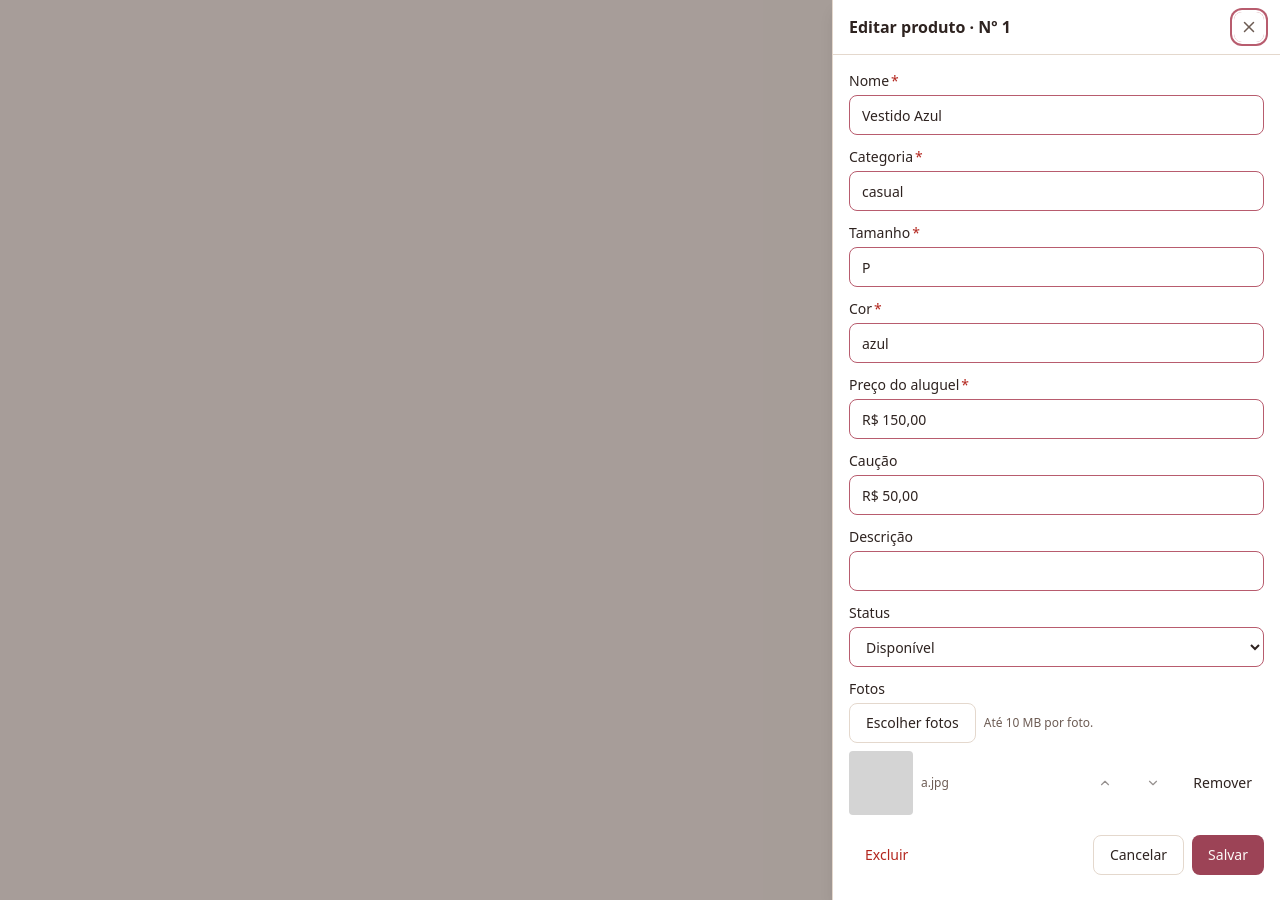
ProductDrawer › prompts when a photo was removed
This screenshot has width=1280, height=900.
Click the button "Remover": coordinates (1223, 783) [1181,767,1264,799]
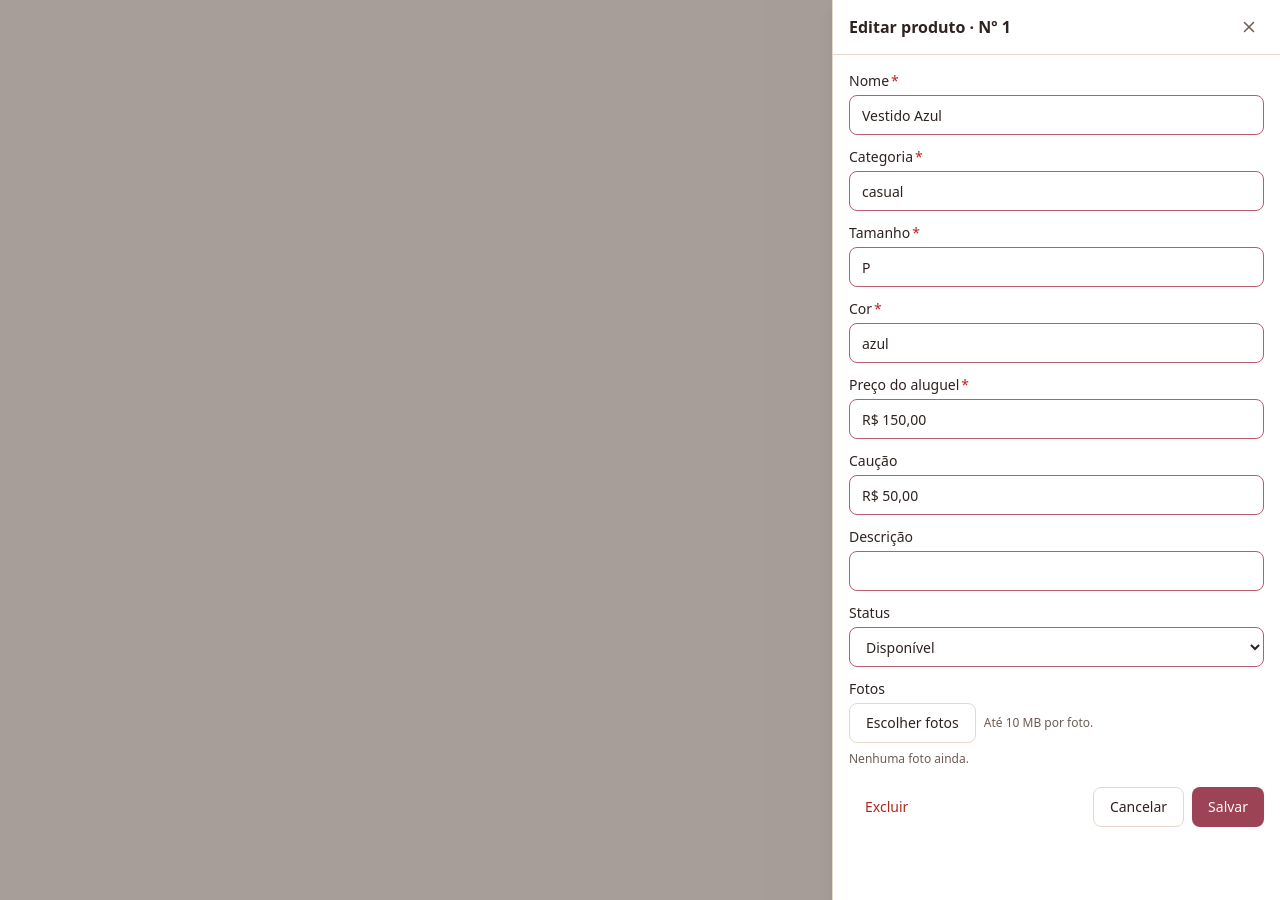
Click the button "Cancelar": coordinates (1138, 807) [1093,787,1184,827]
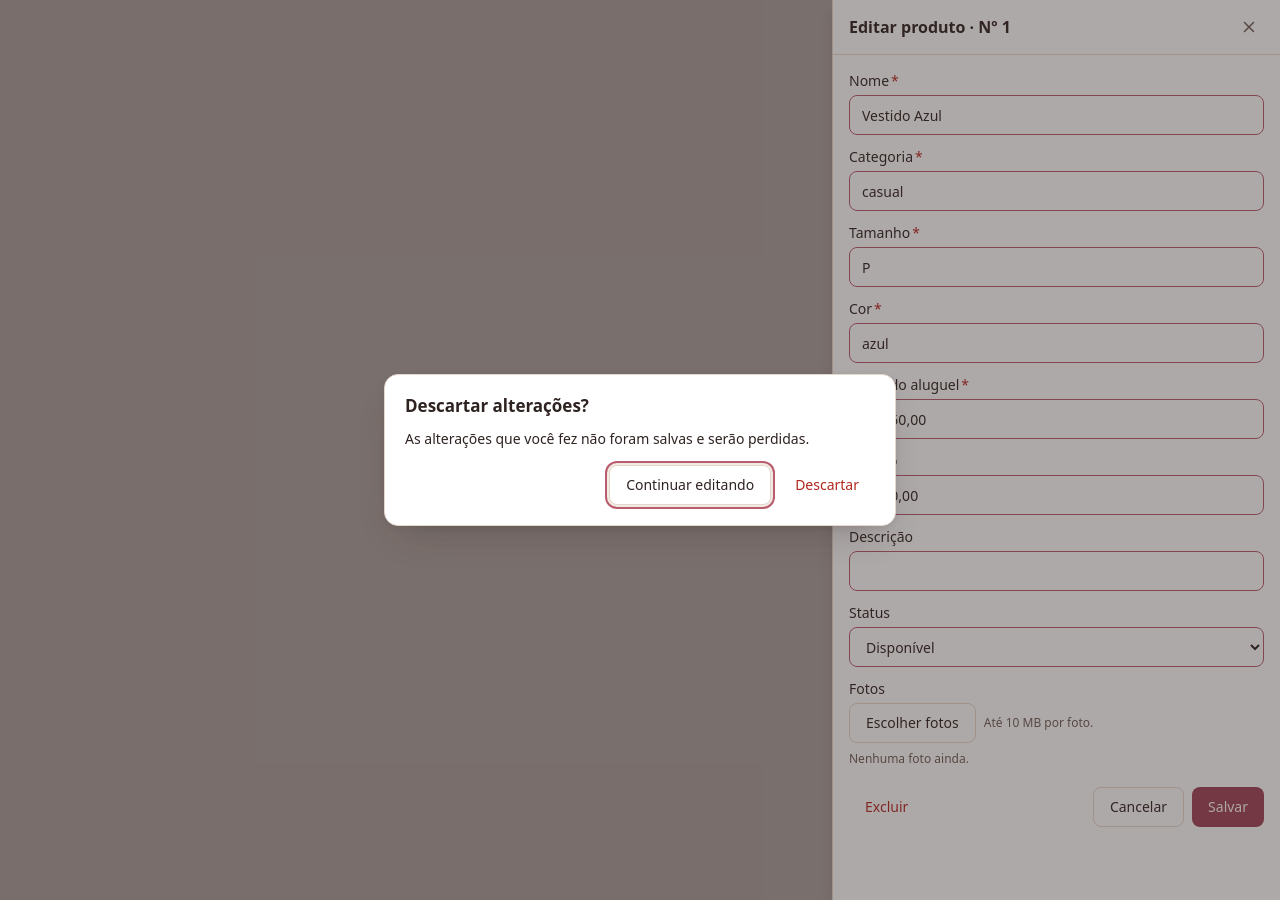
expect the heading "Descartar alterações?" is shown: met, box [405,394,589,417]
